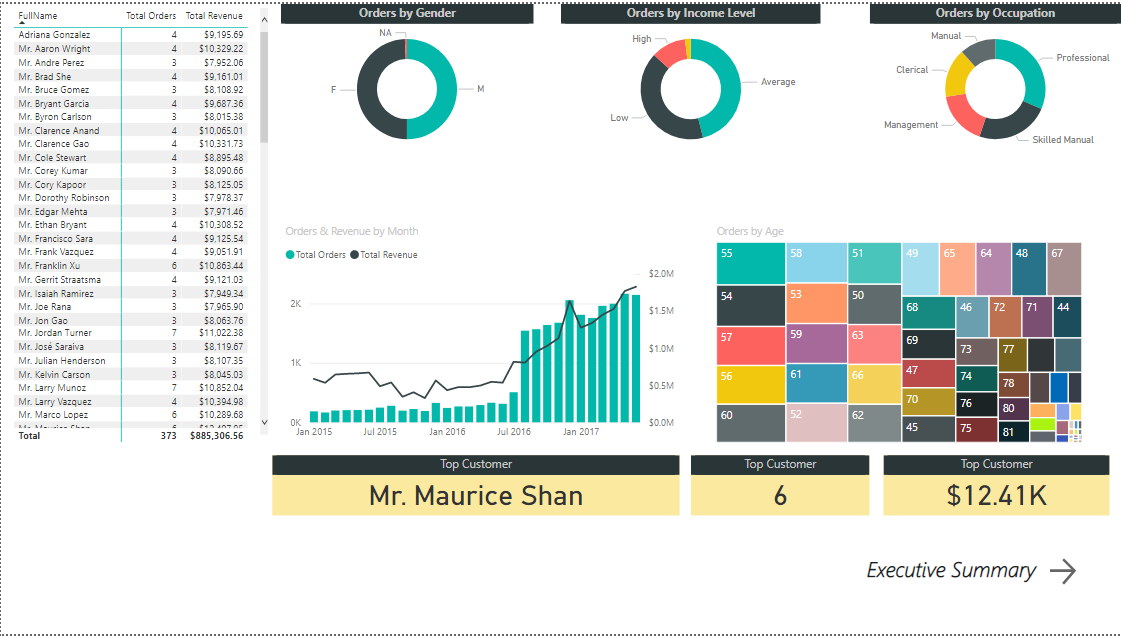

This screenshot's page, from the dashboard's own definition file:
{"tool":"powerbi","page":{"name":"Customer Detail","canvas":[1280,720],"ordinal":2},"visuals":[{"type":"pivotTable","fields":{"Rows":["AW_Customer_Lookup.FullName"],"Values":["AW_Sales.Total Orders","AW_Sales.Total Revenue"]},"box":[10,0,300,505.7],"z":0},{"type":"donutChart","title":"Orders by Gender","fields":{"Y":["AW_Sales.Total Orders"],"Category":["AW_Customer_Lookup.Gender"]},"box":[320,0,288.6,177.1],"z":1000},{"type":"donutChart","title":"Orders by Income Level","fields":{"Y":["AW_Sales.Total Orders"],"Category":["AW_Customer_Lookup.IncomeLevel"]},"box":[640,0,297.1,177.1],"z":2000},{"type":"donutChart","title":"Orders by Occupation","fields":{"Y":["AW_Sales.Total Orders"],"Category":["AW_Customer_Lookup.Occupation"]},"box":[992.9,0,287.1,177.1],"z":3000},{"type":"lineClusteredColumnComboChart","title":"Orders & Revenue by Month","fields":{"Y":["AW_Sales.Total Orders"],"Y2":["AW_Sales.Total Revenue"],"Category":["AW_Calendar_Lookup.Start of Month"]},"box":[320,251.4,455.7,254.3],"z":3001},{"type":"treemap","title":"Orders by Age","fields":{"Values":["AW_Sales.Total Orders"],"Group":["AW_Customer_Lookup.Current Age"]},"box":[812.9,251.4,427.1,254.3],"z":3002},{"type":"card","title":"Top Customer","fields":{"Values":["Min(AW_Customer_Lookup.FullName)"]},"box":[310,515.7,465.7,68.6],"z":3003},{"type":"card","title":"Top Customer","fields":{"Values":["AW_Sales.Total Orders"]},"box":[788.6,515.7,204.3,68.6],"z":3004},{"type":"card","title":"Top Customer","fields":{"Values":["AW_Sales.Total Revenue"]},"box":[1008.6,515.7,258.6,68.6],"z":3005},{"type":"textbox","box":[984.3,624.3,208.6,47.1],"z":3006},{"type":"actionButton","box":[1192.9,628.6,47.1,40],"z":3007}]}

Visuals, with their boxes in screenshot pixels (x1, y1, x2, y2), scaled from the page's 1280x720 canvas onto the 1121x636 screenshot:
pivotTable - AW_Customer_Lookup.FullName x AW_Sales.Total Orders: left=9, top=0, right=271, bottom=447
"Orders by Gender" donutChart: left=280, top=0, right=533, bottom=156
"Orders by Income Level" donutChart: left=560, top=0, right=821, bottom=156
"Orders by Occupation" donutChart: left=870, top=0, right=1120, bottom=156
"Orders & Revenue by Month" lineClusteredColumnComboChart: left=280, top=222, right=679, bottom=447
"Orders by Age" treemap: left=712, top=222, right=1086, bottom=447
"Top Customer" card: left=271, top=456, right=679, bottom=516
"Top Customer" card: left=691, top=456, right=870, bottom=516
"Top Customer" card: left=883, top=456, right=1110, bottom=516
textbox: left=862, top=551, right=1045, bottom=593
actionButton: left=1045, top=555, right=1086, bottom=591
